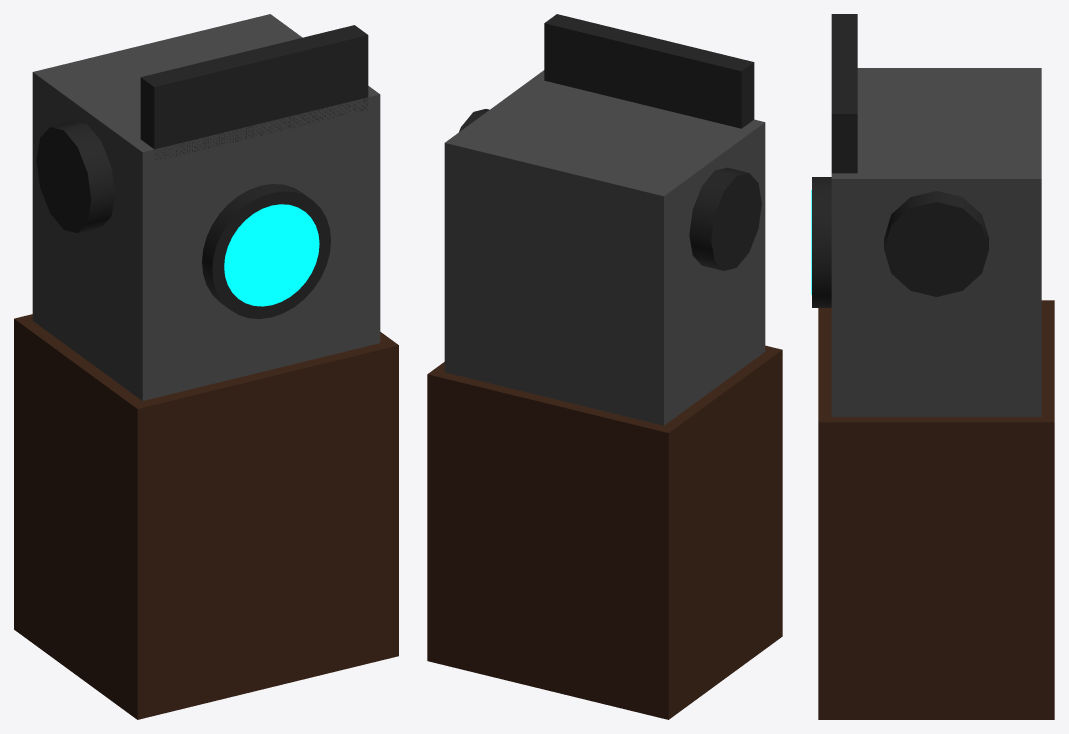
File: Pack_A_Punch.glb
3 views of the same model, side by side, from view 1: azimuth 30°, elevation 25°; view 2: azimuth 150°, elevation 25°; view 3: azimuth 270°, elevation 25° (orthographic). The views are drawn at different scales.
Visible parts, largest first — view 1: Mesh_0, Mesh_1, Mesh_4, Mesh_3, Mesh_5, Mesh_2; view 2: Mesh_0, Mesh_1, Mesh_4, Mesh_5; view 3: Mesh_0, Mesh_1, Mesh_5.001, Mesh_4, Mesh_2.
Part boxes in pixels (x1,y1,x2,y2): Mesh_0: [14, 314, 398, 719]; Mesh_1: [32, 14, 380, 400]; Mesh_4: [140, 25, 368, 159]; Mesh_3: [224, 204, 319, 306]; Mesh_5: [36, 121, 114, 233]; Mesh_2: [202, 184, 330, 318]; Mesh_0: [427, 345, 782, 719]; Mesh_1: [444, 70, 765, 425]; Mesh_4: [544, 14, 754, 128]; Mesh_5: [689, 167, 761, 270]; Mesh_0: [818, 300, 1054, 719]; Mesh_1: [831, 68, 1041, 416]; Mesh_5.001: [884, 191, 988, 296]; Mesh_4: [831, 14, 857, 173]; Mesh_2: [812, 177, 831, 307].
Size of the model in its own units: 2.4 by 5 by 1.86.
